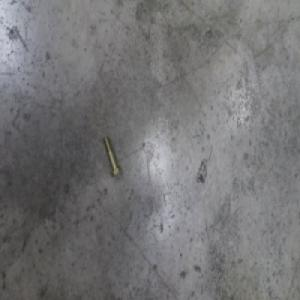Bolt: (103, 136, 121, 179)
